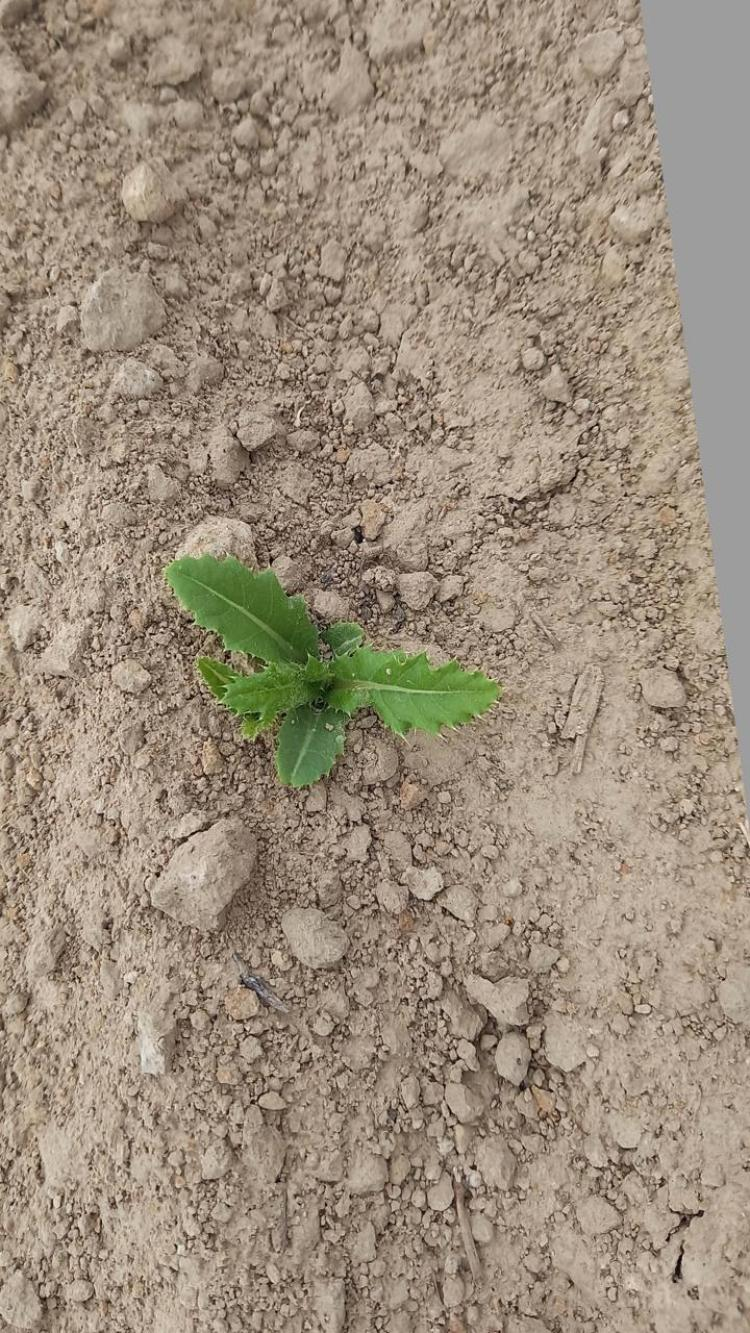bodyak: (156, 552, 512, 789)
